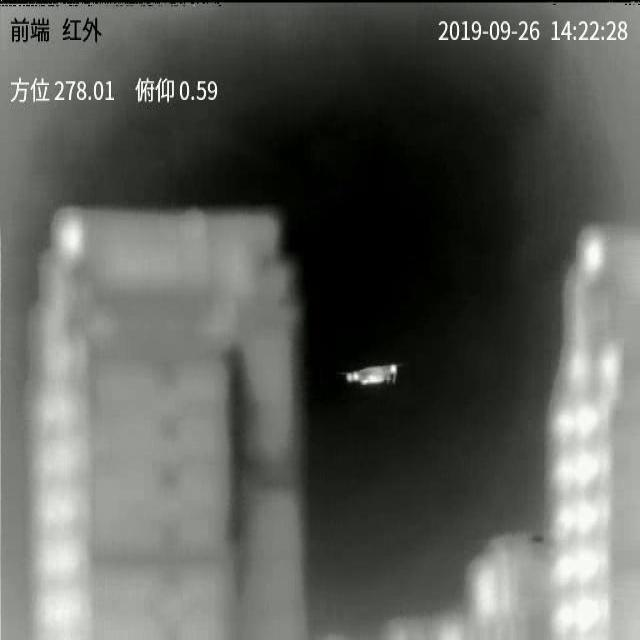drone: (346, 364, 397, 386)
